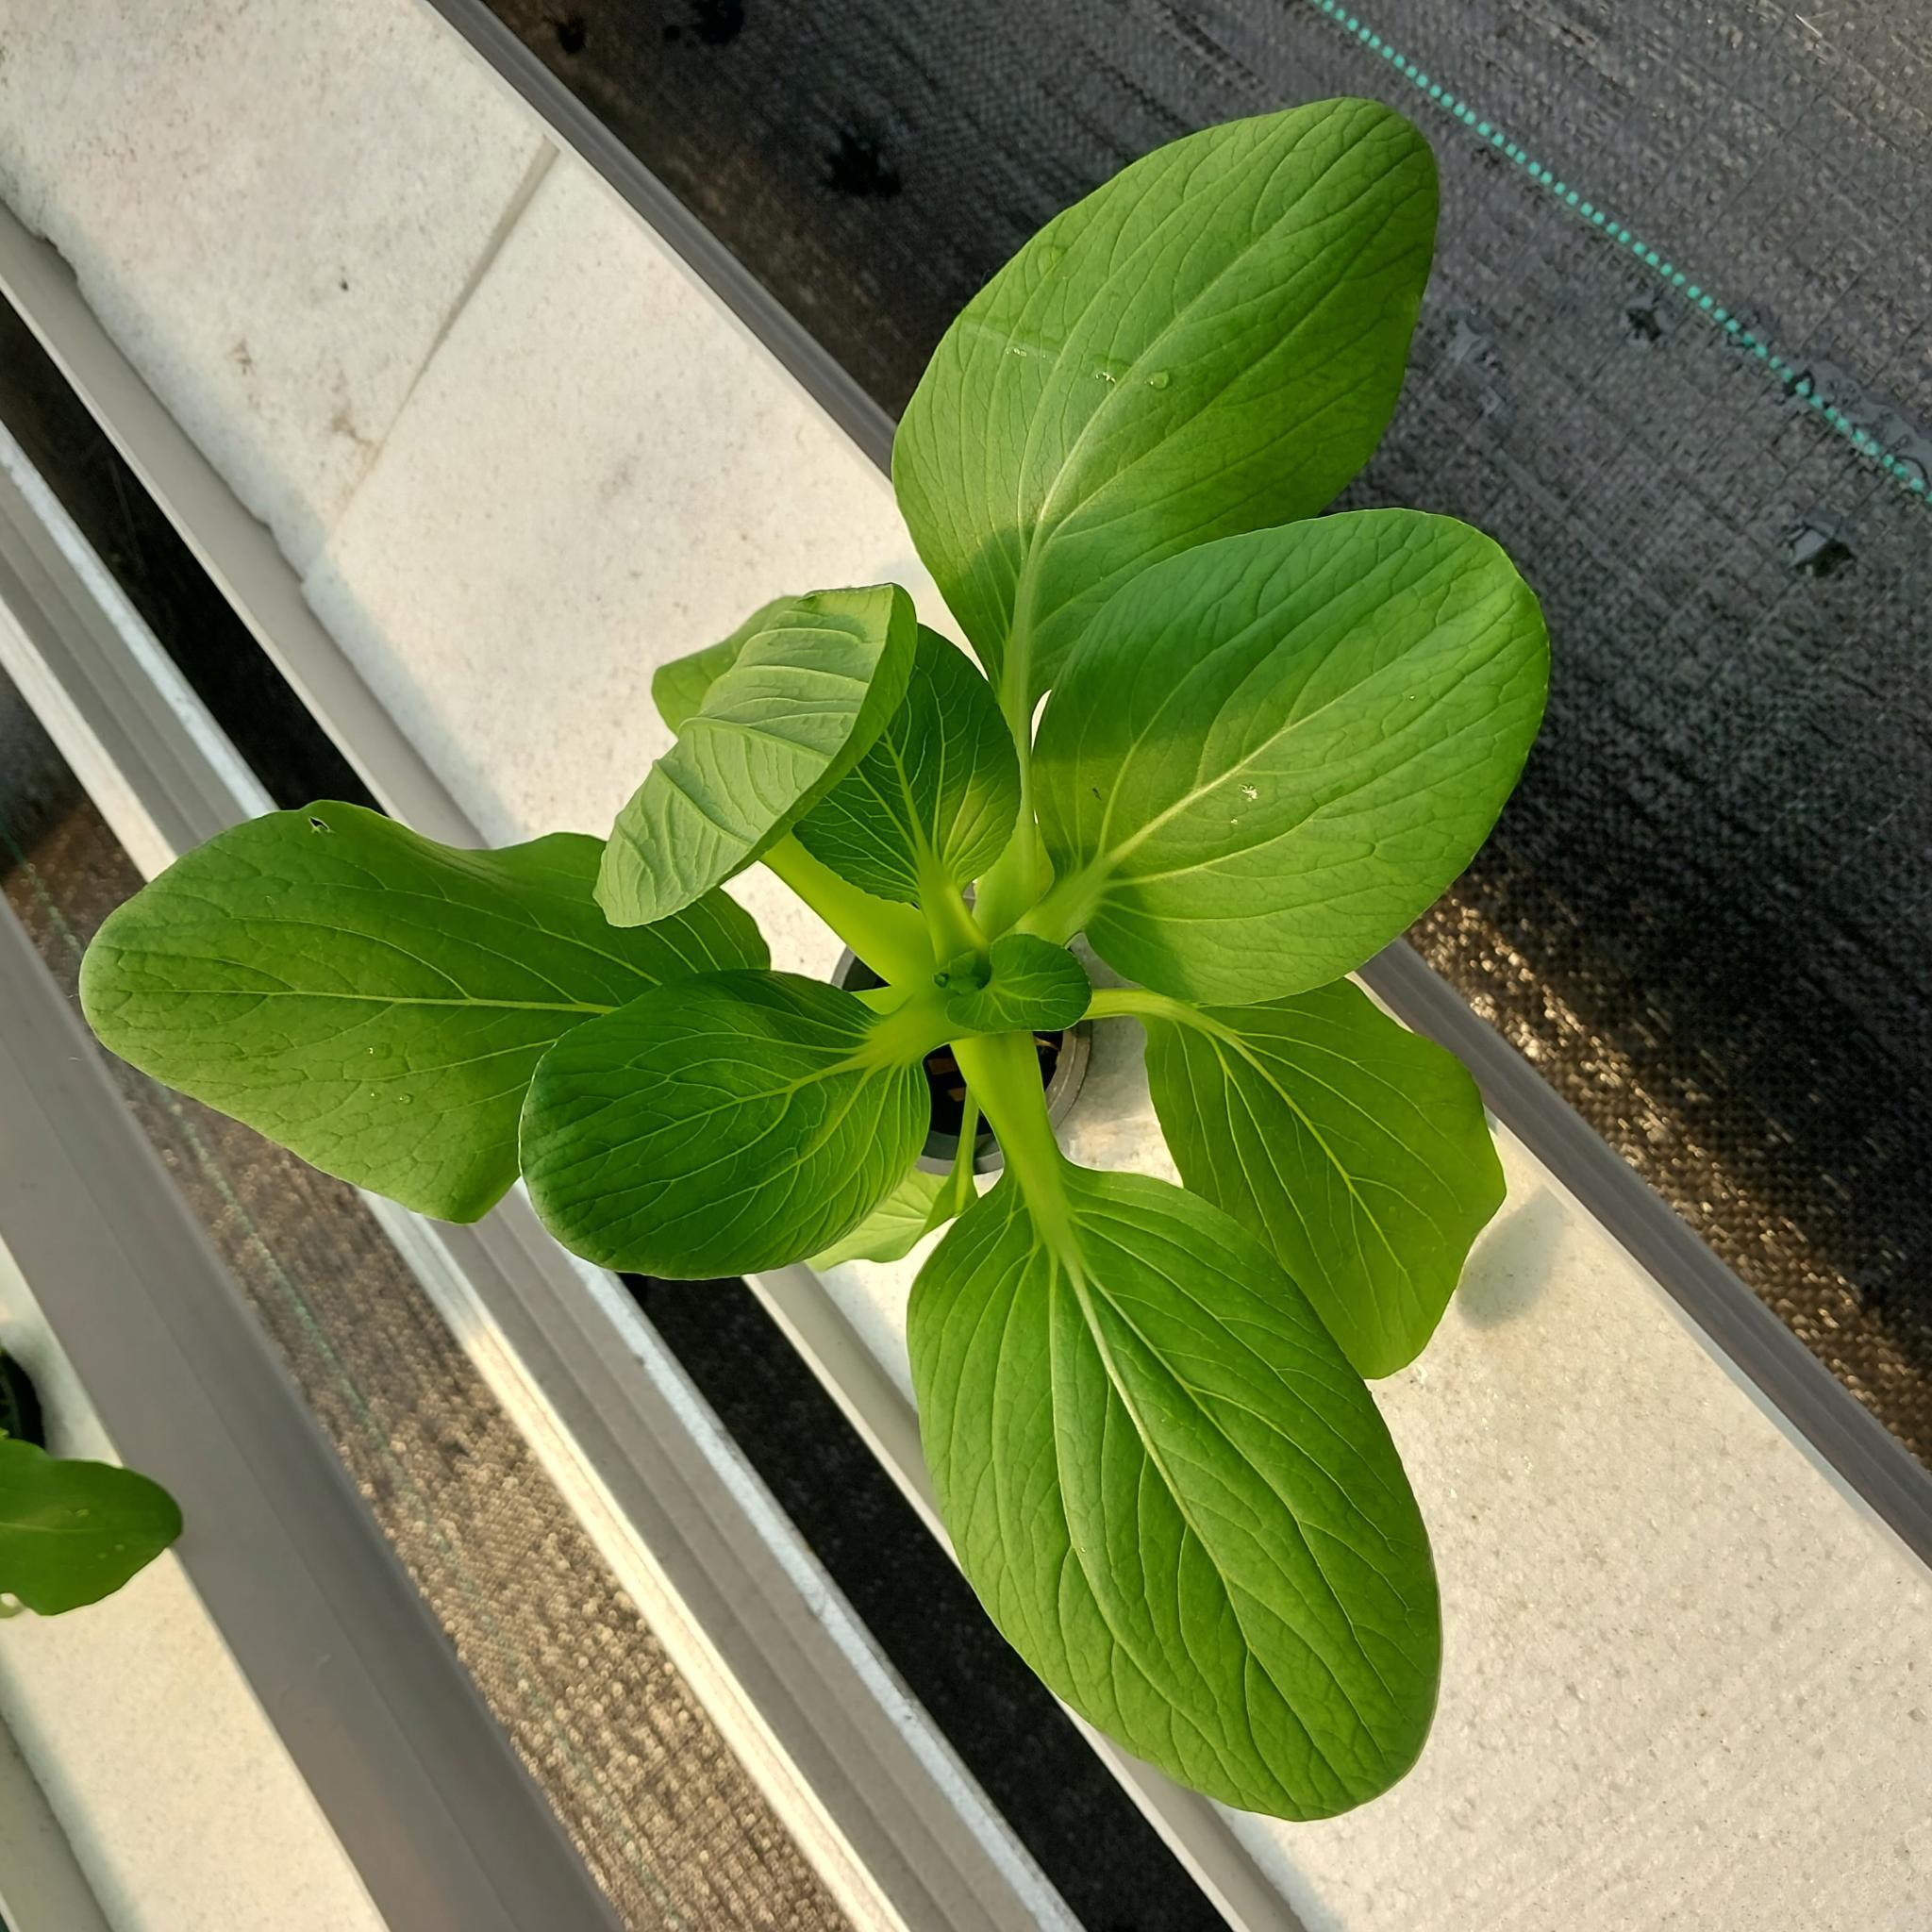Healthy-Pechay: (83, 720, 934, 1276), (934, 1120, 1410, 1831), (925, 92, 1426, 738), (1046, 510, 1553, 982), (1141, 968, 1507, 1380), (596, 582, 945, 936), (915, 1168, 1092, 1727), (274, 985, 607, 1017), (649, 619, 740, 732)
